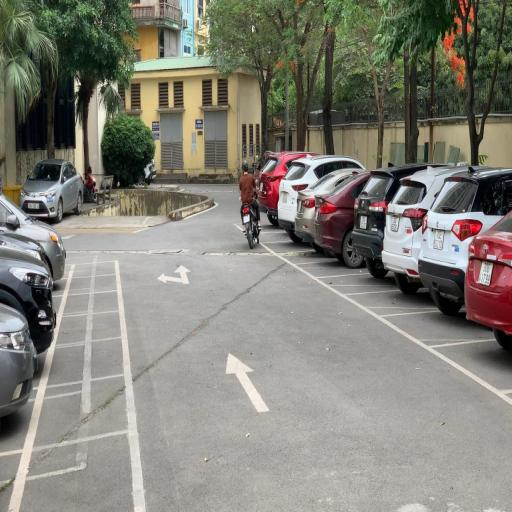bike: (238, 160, 263, 250)
numberplate: (243, 214, 250, 224)
with helmet: (241, 160, 249, 171)
